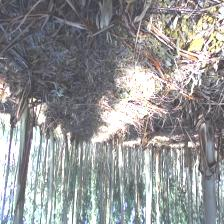trunk: (10, 92, 34, 218), (198, 122, 218, 219), (44, 127, 56, 219), (142, 133, 154, 222), (116, 131, 125, 220)
